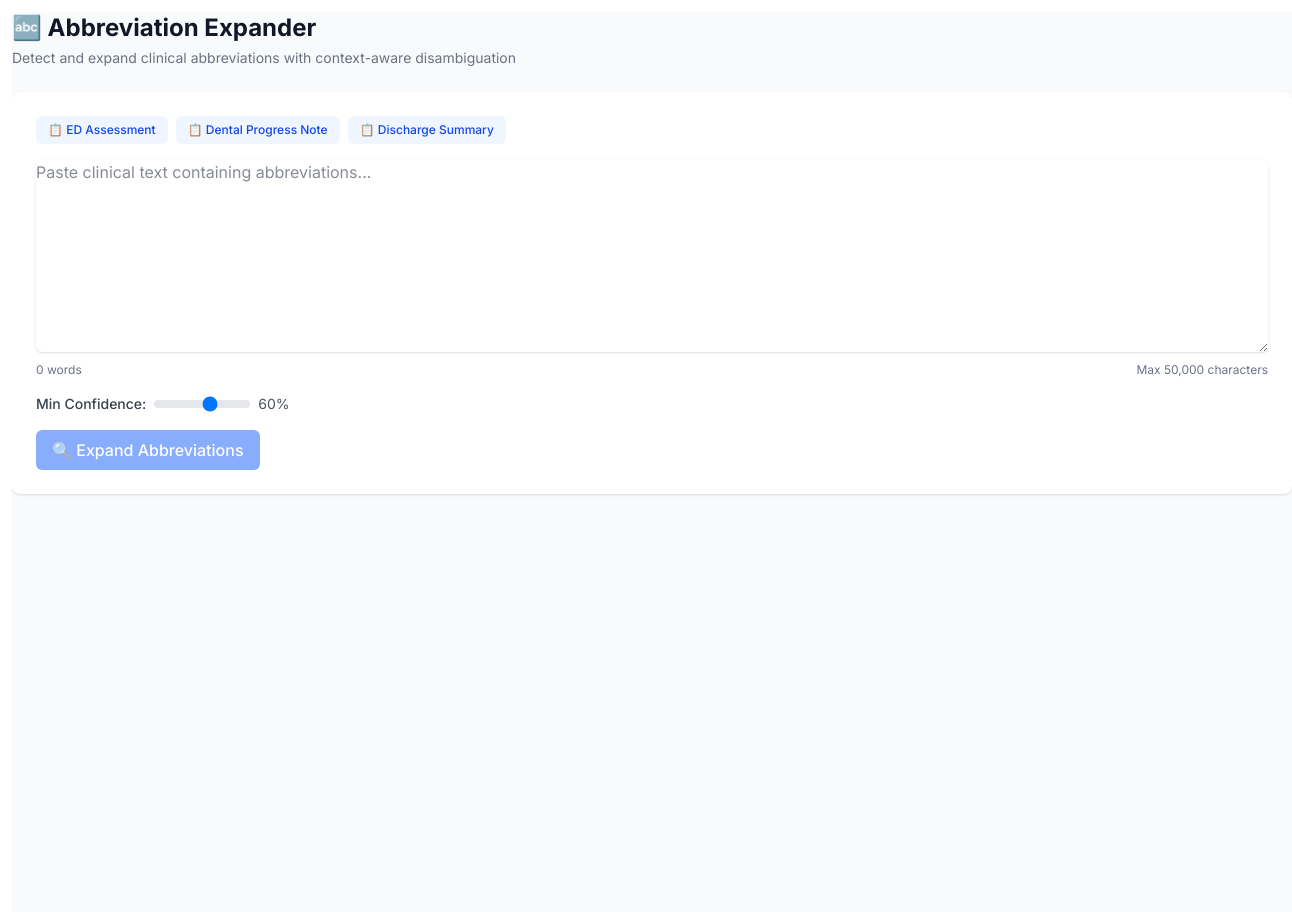
Test: AbbreviationExpander — API Integration › displays abbreviation count in results
Click the button "📋 ED Assessment".
click(102, 130)  # box [36,116,168,144]
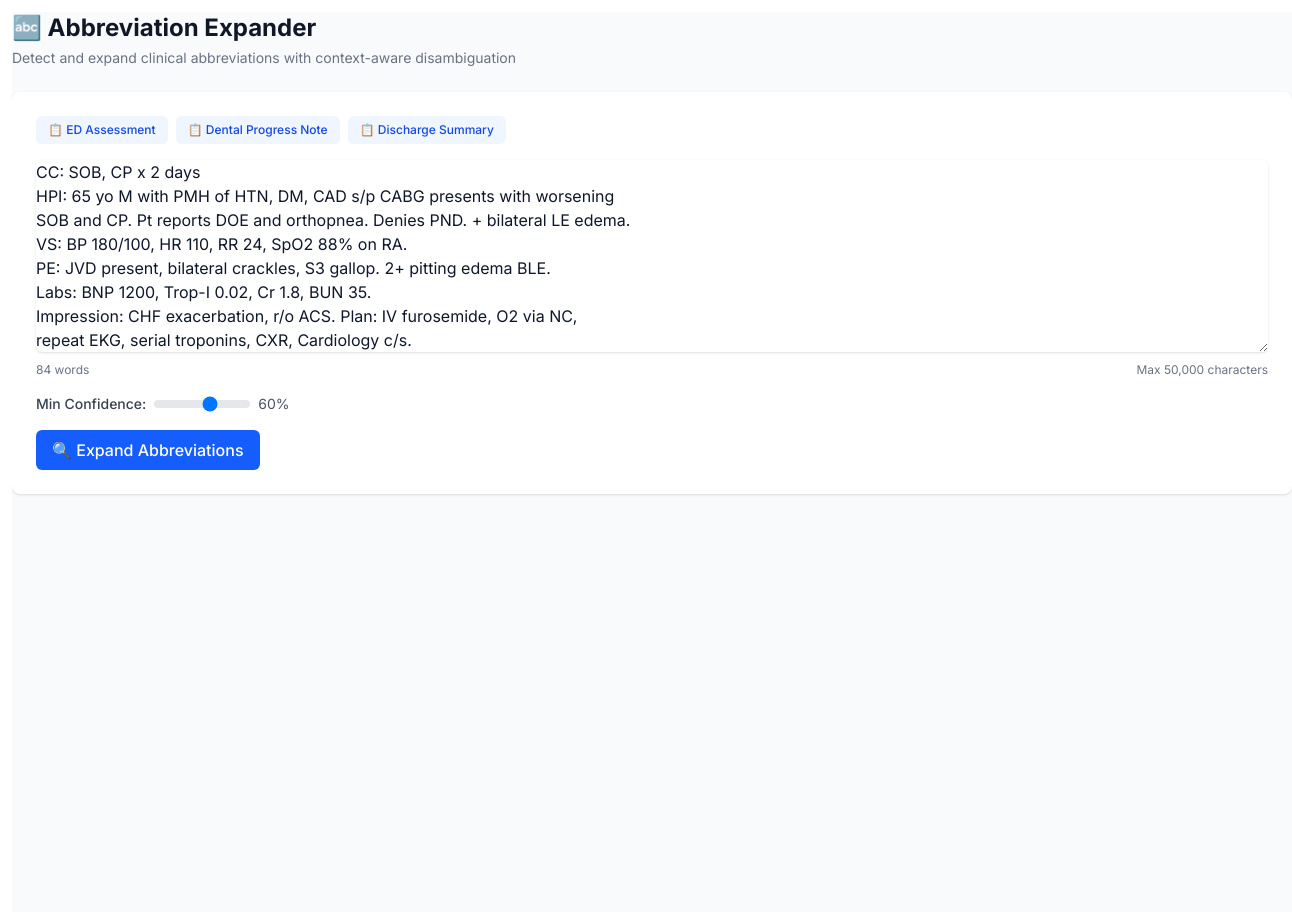
Click the button "🔍 Expand Abbreviations".
click(148, 450)  # box [36,430,260,470]
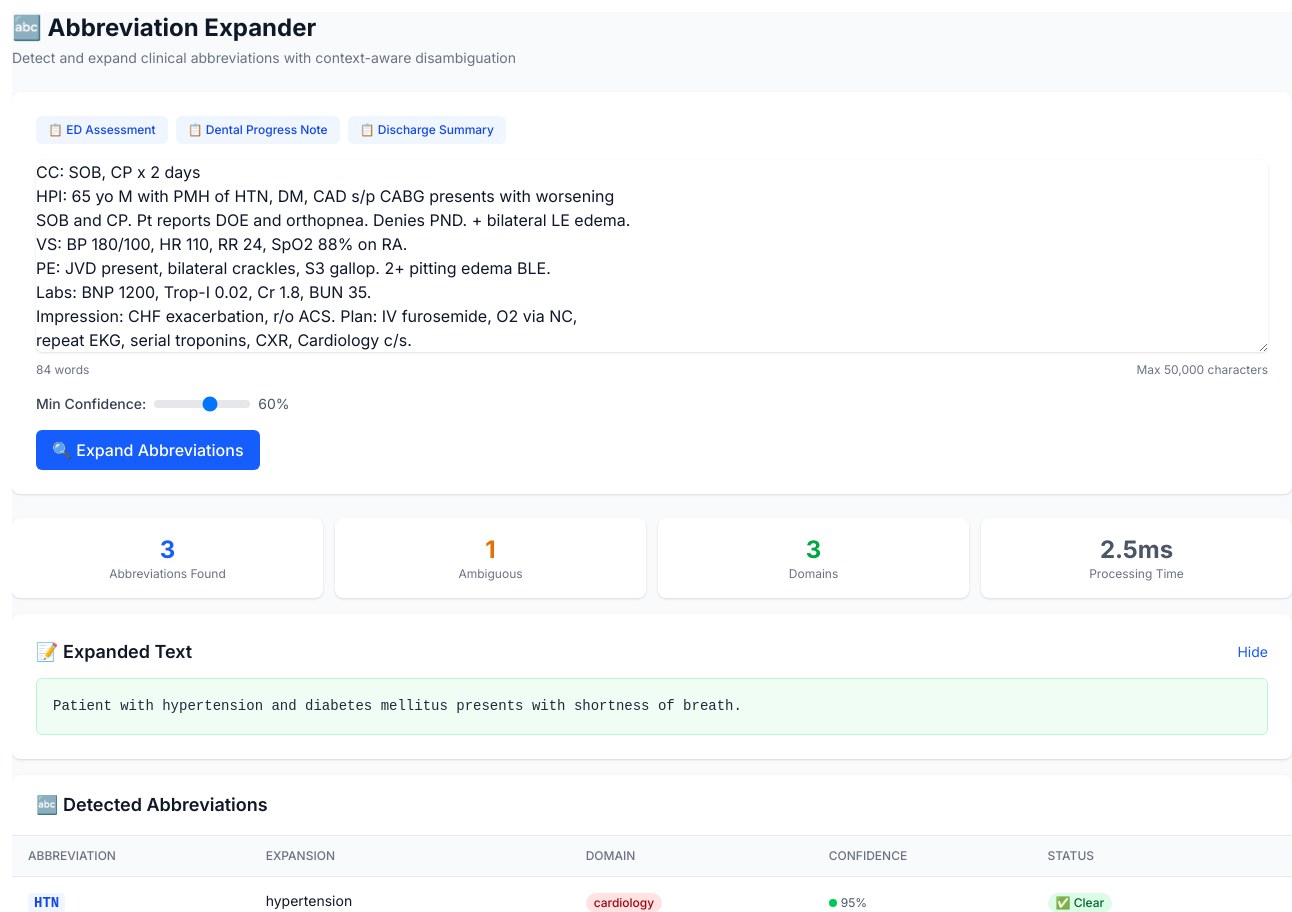
Expected: the text "Abbreviations Found" is shown, [109,566,226,581]
